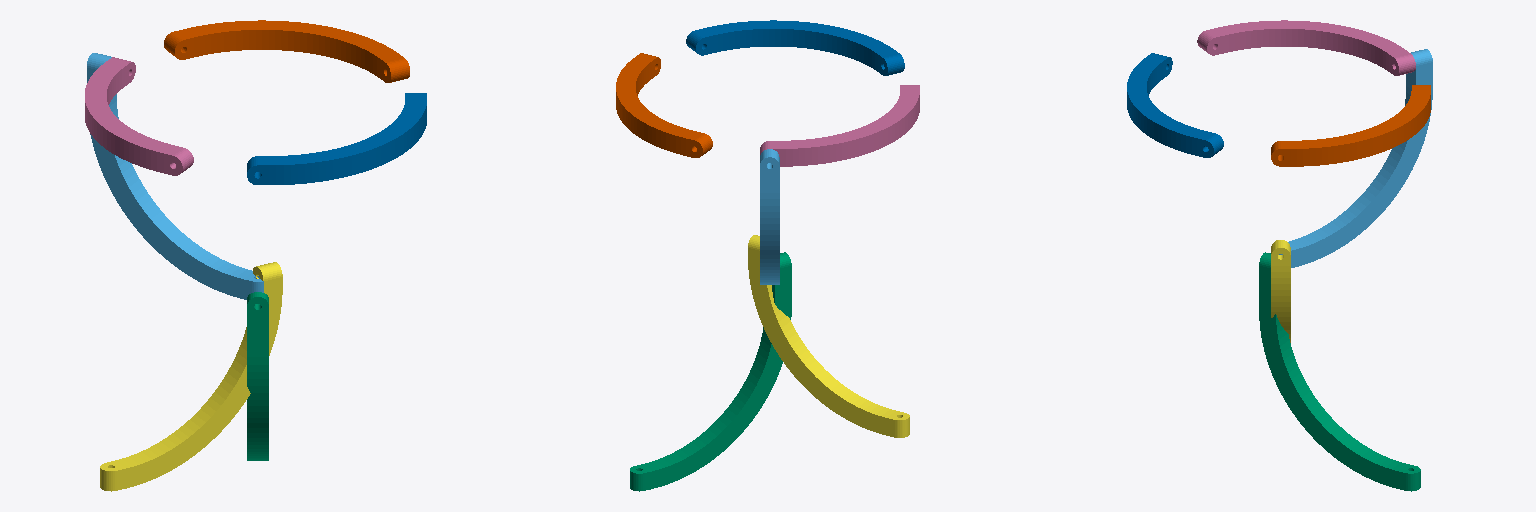
URDF robot description (parallel_spherical):
<?xml version="1.0" ?>
<robot name="parallel_spherical">
<mujoco>
  <compiler balanceinertia="true" discardvisual="false" meshdir="meshes" fusestatic="false"/>
</mujoco>
<link name="base_link">
  <inertial>
    <origin xyz="1.1370661670351178e-15 2.6096600554904347e-15 0.007499999999999476" rpy="0 0 0"/>
    <mass value="0.9575334104776773"/>
    <inertia ixx="0.0033571508473524973" iyy="0.0033571508473521" izz="0.006677996643595624" ixy="-8.710230758879048e-17" iyz="4.756714133691144e-17" ixz="2.2311041902809987e-19"/>
  </inertial>
  <visual>
    <origin xyz="0 0 0" rpy="0 0 0"/>
    <geometry>
      <mesh filename="meshes/base_link.stl" scale="0.001 0.001 0.001"/>
    </geometry>

  </visual>
  <collision>
    <origin xyz="0 0 0" rpy="0 0 0"/>
    <geometry>
      <mesh filename="meshes/base_link.stl" scale="0.001 0.001 0.001"/>
    </geometry>
  </collision>
</link>

<link name="lower_link21">
  <inertial>
    <origin xyz="0.016724251686422664 -0.028967301091258432 -0.08736741279252863" rpy="0 0 0"/>
    <mass value="0.3882295327079039"/>
    <inertia ixx="0.0012505076433464192" iyy="0.000941810438615773" izz="0.0006319189301222778" ixy="0.0002673407980274113" iyz="-0.0005271518955243472" ixz="0.00030435214317984735"/>
  </inertial>
  <visual>
    <origin xyz="0.0575 -0.099593 -0.0075" rpy="0 0 0"/>
    <geometry>
      <mesh filename="meshes/lower_link21.stl" scale="0.001 0.001 0.001"/>
    </geometry>

  </visual>
  <collision>
    <origin xyz="0.0575 -0.099593 -0.0075" rpy="0 0 0"/>
    <geometry>
      <mesh filename="meshes/lower_link21.stl" scale="0.001 0.001 0.001"/>
    </geometry>
  </collision>
</link>

<link name="lower_link31">
  <inertial>
    <origin xyz="0.015416315326828862 0.026701820321948358 -0.09601432952433928" rpy="0 0 0"/>
    <mass value="0.4147232258009921"/>
    <inertia ixx="0.0015284149682778447" iyy="0.0011989238450718078" izz="0.0006744977323800533" ixy="-0.0002853473881346679" iyz="0.0006146185126120543" ixz="0.0003548499404496693"/>
  </inertial>
  <visual>
    <origin xyz="0.0575 0.099593 -0.0075" rpy="0 0 0"/>
    <geometry>
      <mesh filename="meshes/lower_link31.stl" scale="0.001 0.001 0.001"/>
    </geometry>
  </visual>
  <collision>
    <origin xyz="0.0575 0.099593 -0.0075" rpy="0 0 0"/>
    <geometry>
      <mesh filename="meshes/lower_link31.stl" scale="0.001 0.001 0.001"/>
    </geometry>
  </collision>
</link>

<link name="lower_link11">
  <inertial>
    <origin xyz="-0.03644748444172061 1.2925501269289129e-08 -0.07855249023412866" rpy="0 0 0"/>
    <mass value="0.36173571001560584"/>
    <inertia ixx="0.0005832482154357636" iyy="0.0011529662391309634" izz="0.0005832469875728615" ixy="-3.5900558129703873e-10" iyz="-4.0074867189899194e-10" ixz="-0.0005103757821193632"/>
  </inertial>
  <visual>
    <origin xyz="-0.115 -0.0 -0.0075" rpy="0 0 0"/>
    <geometry>
      <mesh filename="meshes/lower_link11.stl" scale="0.001 0.001 0.001"/>
    </geometry>

  </visual>
  <collision>
    <origin xyz="-0.115 -0.0 -0.0075" rpy="0 0 0"/>
    <geometry>
      <mesh filename="meshes/lower_link11.stl" scale="0.001 0.001 0.001"/>
    </geometry>
  </collision>
</link>

<link name="upper_link31">
  <inertial>
    <origin xyz="-0.06134873912607851 -0.044249984205424336 1.734723475976807e-18" rpy="0 0 0"/>
    <mass value="0.3201192652534845"/>
    <inertia ixx="0.00010136126569458082" iyy="0.000709677222411355" izz="0.0007990701408253169" ixy="-0.00017560539476393195" iyz="1.8431436932253575e-18" ixz="1.212951180468158e-18"/>
  </inertial>
  <visual>
    <origin xyz="-0.086603 0.05 -0.0075" rpy="0 0 0"/>
    <geometry>
      <mesh filename="meshes/upper_link31.stl" scale="0.001 0.001 0.001"/>
    </geometry>

  </visual>
  <collision>
    <origin xyz="-0.086603 0.05 -0.0075" rpy="0 0 0"/>
    <geometry>
      <mesh filename="meshes/upper_link31.stl" scale="0.001 0.001 0.001"/>
    </geometry>
  </collision>
</link>

<link name="upper_link11">
  <inertial>
    <origin xyz="0.06899575019121883 -0.031004176426672525 1.734723475976807e-18" rpy="0 0 0"/>
    <mass value="0.32011926525348455"/>
    <inertia ixx="0.00040551950032500454" iyy="0.00040551898778093485" izz="0.00079907014082532" ixy="0.0003512112334040447" iyz="-2.2497195079074217e-18" ixz="-2.710505431213761e-20"/>
  </inertial>
  <visual>
    <origin xyz="0.0 -0.1 -0.0075" rpy="0 0 0"/>
    <geometry>
      <mesh filename="meshes/upper_link11.stl" scale="0.001 0.001 0.001"/>
    </geometry>

  </visual>
  <collision>
    <origin xyz="0.0 -0.1 -0.0075" rpy="0 0 0"/>
    <geometry>
      <mesh filename="meshes/upper_link11.stl" scale="0.001 0.001 0.001"/>
    </geometry>
  </collision>
</link>

<link name="upper_link21">
  <inertial>
    <origin xyz="-0.0076470110651403606 0.07525416063209672 2.6020852139652106e-18" rpy="0 0 0"/>
    <mass value="0.3201192652534844"/>
    <inertia ixx="0.0007096769661393216" iyy="0.00010136152196661566" izz="0.0007990701408253187" ixy="-0.00017560583864011515" iyz="2.0057740190981832e-18" ixz="-1.2468324983583301e-18"/>
  </inertial>
  <visual>
    <origin xyz="0.086603 0.05 -0.0075" rpy="0 0 0"/>
    <geometry>
      <mesh filename="meshes/upper_link21.stl" scale="0.001 0.001 0.001"/>
    </geometry>

  </visual>
  <collision>
    <origin xyz="0.086603 0.05 -0.0075" rpy="0 0 0"/>
    <geometry>
      <mesh filename="meshes/upper_link21.stl" scale="0.001 0.001 0.001"/>
    </geometry>
  </collision>
</link>

<joint name="Revolute_1" type="continuous">
  <origin xyz="0.029103 0.149593 0.0" rpy="0 0 0"/>
  <parent link="upper_link21"/>
  <child link="lower_link21"/>
  <axis xyz="0.5 -0.866025 0.0"/>
</joint>
<transmission name="Revolute_1_tran">
  <type>transmission_interface/SimpleTransmission</type>
  <joint name="Revolute_1">
    <hardwareInterface>PositionJointInterface</hardwareInterface>
  </joint>
  <actuator name="Revolute_1_actr">
    <hardwareInterface>PositionJointInterface</hardwareInterface>
    <mechanicalReduction>1</mechanicalReduction>
  </actuator>
</transmission>

<joint name="Revolute_2" type="continuous">
  <origin xyz="-0.086603 0.05 -0.145" rpy="0 0 0"/>
  <parent link="upper_link31"/>
  <child link="lower_link31"/>
  <axis xyz="0.5 0.866025 0.0"/>
</joint>
<transmission name="Revolute_2_tran">
  <type>transmission_interface/SimpleTransmission</type>
  <joint name="Revolute_2">
    <hardwareInterface>PositionJointInterface</hardwareInterface>
  </joint>
  <actuator name="Revolute_2_actr">
    <hardwareInterface>PositionJointInterface</hardwareInterface>
    <mechanicalReduction>1</mechanicalReduction>
  </actuator>
</transmission>

<joint name="Revolute_3" type="continuous">
  <origin xyz="0.0 -0.1 -0.13" rpy="0 0 0"/>
  <parent link="upper_link11"/>
  <child link="lower_link11"/>
  <axis xyz="-1.0 0.0 0.0"/>
</joint>
<transmission name="Revolute_3_tran">
  <type>transmission_interface/SimpleTransmission</type>
  <joint name="Revolute_3">
    <hardwareInterface>PositionJointInterface</hardwareInterface>
  </joint>
  <actuator name="Revolute_3_actr">
    <hardwareInterface>PositionJointInterface</hardwareInterface>
    <mechanicalReduction>1</mechanicalReduction>
  </actuator>
</transmission>

<joint name="Revolute_4" type="continuous">
  <origin xyz="0.086603 -0.05 0.0075" rpy="0 0 0"/>
  <parent link="base_link"/>
  <child link="upper_link31"/>
  <axis xyz="-0.866025 0.5 0.0"/>
</joint>
<transmission name="Revolute_4_tran">
  <type>transmission_interface/SimpleTransmission</type>
  <joint name="Revolute_4">
    <hardwareInterface>PositionJointInterface</hardwareInterface>
  </joint>
  <actuator name="Revolute_4_actr">
    <hardwareInterface>PositionJointInterface</hardwareInterface>
    <mechanicalReduction>1</mechanicalReduction>
  </actuator>
</transmission>

<joint name="Revolute_5" type="continuous">
  <origin xyz="0.0 0.1 0.0075" rpy="0 0 0"/>
  <parent link="base_link"/>
  <child link="upper_link11"/>
  <axis xyz="-0.0 -1.0 0.0"/>
</joint>
<transmission name="Revolute_5_tran">
  <type>transmission_interface/SimpleTransmission</type>
  <joint name="Revolute_5">
    <hardwareInterface>PositionJointInterface</hardwareInterface>
  </joint>
  <actuator name="Revolute_5_actr">
    <hardwareInterface>PositionJointInterface</hardwareInterface>
    <mechanicalReduction>1</mechanicalReduction>
  </actuator>
</transmission>

<joint name="Revolute_6" type="continuous">
  <origin xyz="-0.086603 -0.05 0.0075" rpy="0 0 0"/>
  <parent link="base_link"/>
  <child link="upper_link21"/>
  <axis xyz="0.866025 0.5 0.0"/>
</joint>
<transmission name="Revolute_6_tran">
  <type>transmission_interface/SimpleTransmission</type>
  <joint name="Revolute_6">
    <hardwareInterface>PositionJointInterface</hardwareInterface>
  </joint>
  <actuator name="Revolute_6_actr">
    <hardwareInterface>PositionJointInterface</hardwareInterface>
    <mechanicalReduction>1</mechanicalReduction>
  </actuator>
</transmission>

<!-- <joint name="Revolute_7" type="continuous">
  <origin xyz="0.0575 -0.099593 -0.13" rpy="0 0 0"/>
  <parent link="lower_link21"/>
  <child link="lower_link11"/>
  <axis xyz="1e-06 0.0 -1.0"/>
</joint>
<transmission name="Revolute_7_tran">
  <type>transmission_interface/SimpleTransmission</type>
  <joint name="Revolute_7">
    <hardwareInterface>PositionJointInterface</hardwareInterface>
  </joint>
  <actuator name="Revolute_7_actr">
    <hardwareInterface>PositionJointInterface</hardwareInterface>
    <mechanicalReduction>1</mechanicalReduction>
  </actuator>
</transmission> -->

<!-- <joint name="Revolute_8" type="continuous">
  <origin xyz="0.0575 -0.099593 -0.145" rpy="0 0 0"/>
  <parent link="lower_link21"/>
  <child link="lower_link31"/>
  <axis xyz="-1e-06 -1e-06 1.0"/>
</joint>
<transmission name="Revolute_8_tran">
  <type>transmission_interface/SimpleTransmission</type>
  <joint name="Revolute_8">
    <hardwareInterface>PositionJointInterface</hardwareInterface>
  </joint>
  <actuator name="Revolute_8_actr">
    <hardwareInterface>PositionJointInterface</hardwareInterface>
    <mechanicalReduction>1</mechanicalReduction>
  </actuator>
</transmission> -->

</robot>

--- What the picture shows (computed from the rendered views, not written in the file) ---
Views: 3 orthographic renders of the robot side by side, from view 1: azimuth 30°, elevation 25°; view 2: azimuth 150°, elevation 25°; view 3: azimuth 270°, elevation 25°.
Robot: parallel_spherical — 7 links, 6 joints (6 continuous); root link base_link; default pose: all joints at 0.
Links seen in each view (by area): view 1: upper_link11, lower_link11, lower_link21, upper_link31, upper_link21, lower_link31; view 2: lower_link31, lower_link11, upper_link31, upper_link21, upper_link11, lower_link21; view 3: lower_link31, upper_link21, lower_link21, upper_link11, upper_link31, lower_link11.
Link boxes in pixels (bbox=[...]): upper_link11: bbox=[164, 20, 409, 82]; lower_link11: bbox=[100, 262, 282, 491]; lower_link21: bbox=[87, 53, 263, 299]; upper_link31: bbox=[247, 93, 426, 184]; upper_link21: bbox=[85, 57, 193, 175]; lower_link31: bbox=[247, 292, 268, 460]; lower_link31: bbox=[630, 252, 791, 491]; lower_link11: bbox=[748, 235, 909, 437]; upper_link31: bbox=[686, 20, 904, 75]; upper_link21: bbox=[760, 85, 919, 166]; upper_link11: bbox=[616, 53, 712, 157]; lower_link21: bbox=[760, 149, 779, 284]; lower_link31: bbox=[1259, 252, 1420, 491]; upper_link21: bbox=[1197, 20, 1415, 75]; lower_link21: bbox=[1279, 49, 1432, 267]; upper_link11: bbox=[1271, 85, 1430, 166]; upper_link31: bbox=[1127, 53, 1223, 157]; lower_link11: bbox=[1271, 240, 1290, 342].
Bounding box of the posed robot: 0.2375 × 0.2341 × 0.3125 m (x, y, z).
6 mesh visuals loaded from 7 distinct referenced files (6 binary STL); not drawn: 1 (reference not matched to a file when rendering).